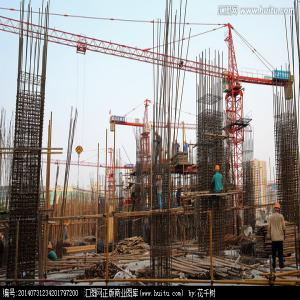none: (135, 189, 137, 194)
yellow: (274, 203, 282, 216), (215, 165, 221, 175), (49, 245, 54, 253), (159, 175, 163, 181), (156, 131, 160, 137), (66, 223, 70, 228), (264, 209, 267, 214), (185, 141, 188, 145), (162, 147, 164, 152), (166, 150, 168, 155), (176, 140, 178, 143)
